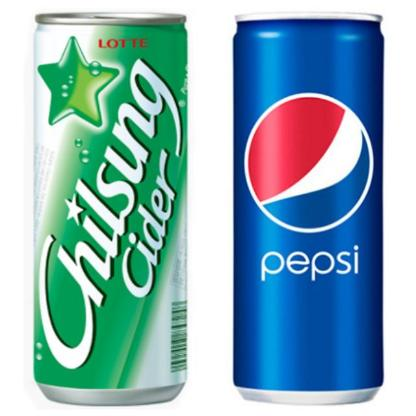Can: (27, 12, 191, 406), (230, 14, 384, 404)
